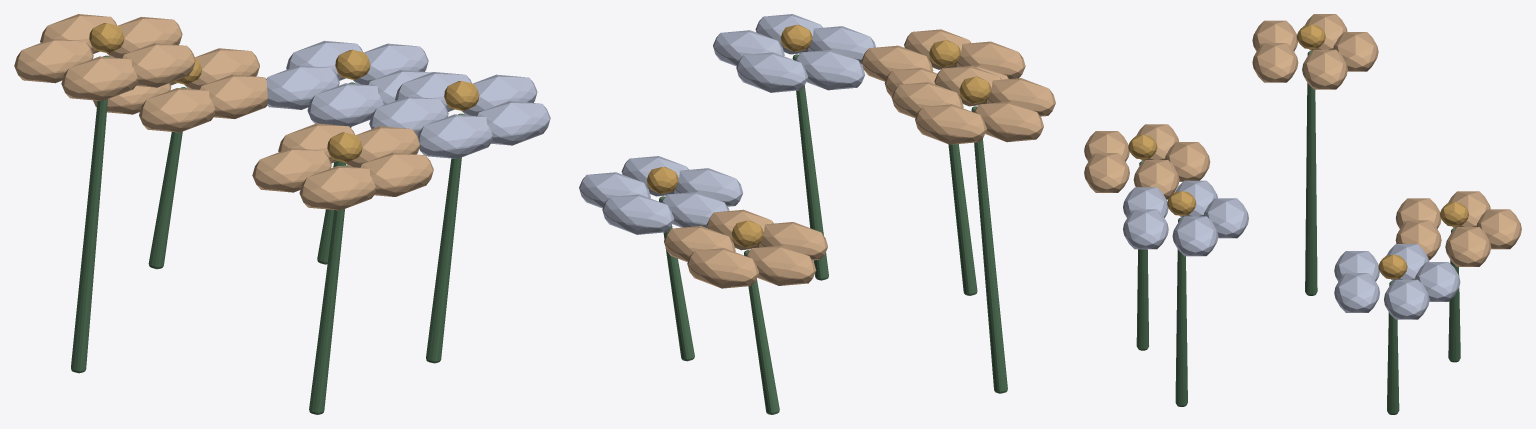
File: wildflowers.glb
3 renders of one model, left to right at view 1: azimuth 30°, elevation 25°; view 2: azimuth 150°, elevation 25°; view 3: azimuth 270°, elevation 25°, orthographic. The views are drawn at different scales.
Visible parts, largest first — view 1: Petal.001, Petal.007, FlowerStem.001, Pollen.001; view 2: Petal.001, Petal.007, FlowerStem.001, Pollen.001; view 3: Petal.001, Petal.007, FlowerStem.001, Pollen.001.
Part boxes in pixels (box(x1,y1,x2,y2)): Petal.001: box(14, 14, 433, 210); Petal.007: box(266, 40, 550, 158); FlowerStem.001: box(71, 55, 464, 414); Pollen.001: box(89, 23, 479, 162); Petal.001: box(664, 29, 1055, 288); Petal.007: box(579, 14, 875, 234); FlowerStem.001: box(659, 54, 1007, 414); Pollen.001: box(647, 24, 991, 247); Petal.001: box(1084, 14, 1521, 266); Petal.007: box(1123, 180, 1460, 319); FlowerStem.001: box(1136, 51, 1460, 414); Pollen.001: box(1128, 24, 1468, 279).
Size of the model in its own units: 0.638 by 0.4548 by 0.6412.
